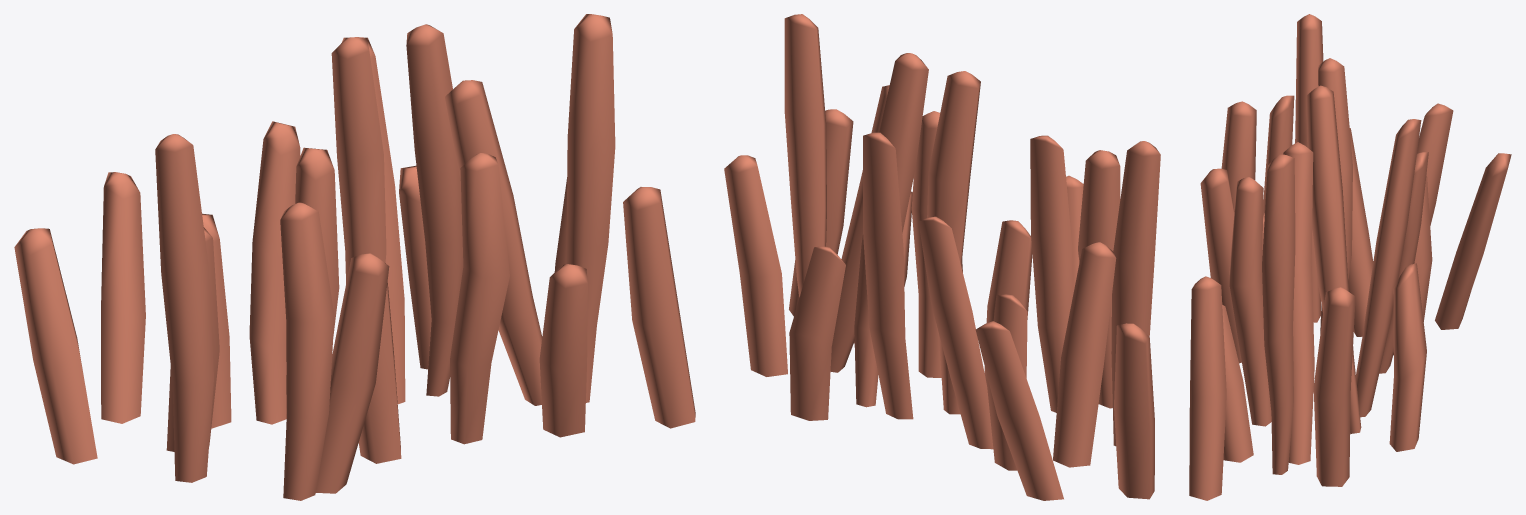
Rendered from coral_anemone_A_medium.fbx.
3 renders of one model, left to right at view 1: azimuth 30°, elevation 25°; view 2: azimuth 150°, elevation 25°; view 3: azimuth 270°, elevation 25°, orthographic. The views are drawn at different scales.
Visible parts, largest first — view 1: coral_anemone_A_medium; view 2: coral_anemone_A_medium; view 3: coral_anemone_A_medium.
Boxes of the visible parts, left/top/right/bottom form: coral_anemone_A_medium: left=14, top=14, right=695, bottom=500; coral_anemone_A_medium: left=724, top=14, right=1160, bottom=500; coral_anemone_A_medium: left=1189, top=14, right=1511, bottom=500.
Bounding box in the file's own units: 71.01 × 49.06 × 43.03.
